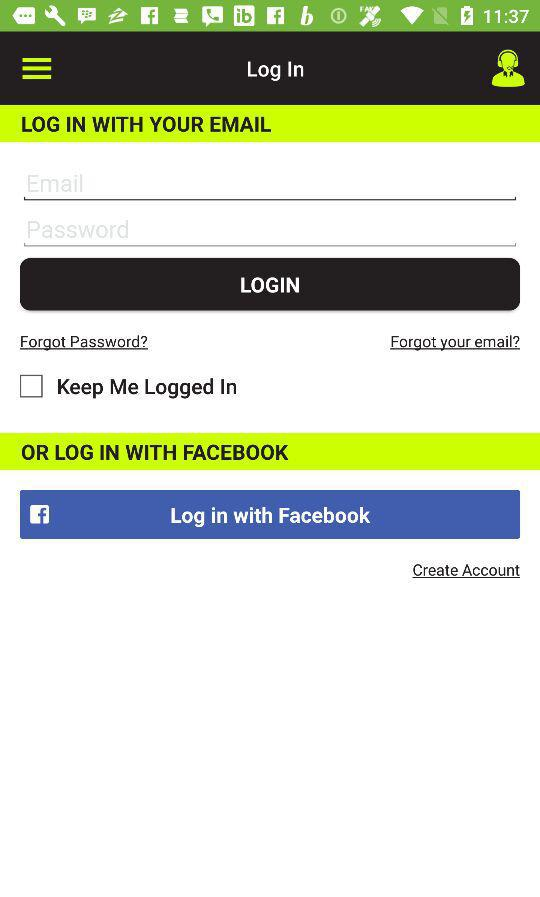CheckedTextView: (21, 374, 237, 400)
EditText: (24, 174, 517, 202), (24, 220, 517, 248)
Icon: (491, 49, 526, 89), (22, 58, 53, 81)
Text: (21, 115, 273, 135), (22, 444, 290, 461), (58, 377, 237, 400), (390, 334, 521, 352), (20, 335, 150, 352), (28, 220, 129, 240), (412, 563, 521, 579), (248, 61, 305, 84), (28, 174, 84, 194)
TextButton: (20, 258, 521, 312), (20, 490, 521, 540)
UpperTaskBar: (1, 1, 540, 33)
